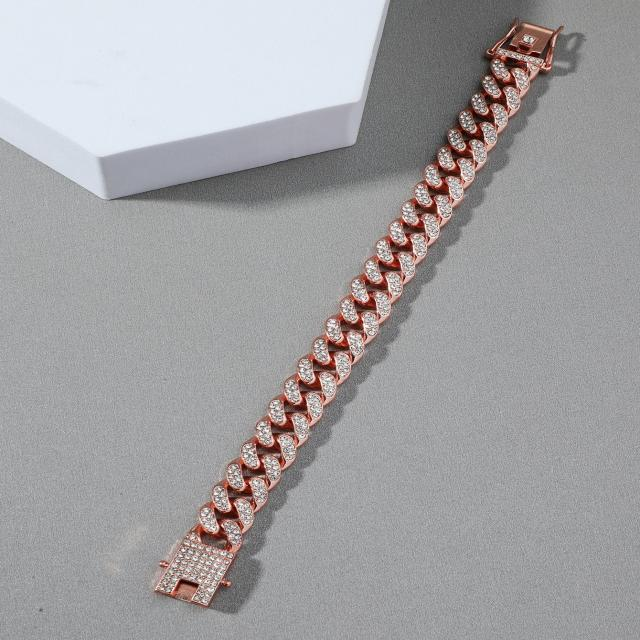bracelet: (80, 0, 609, 640)
